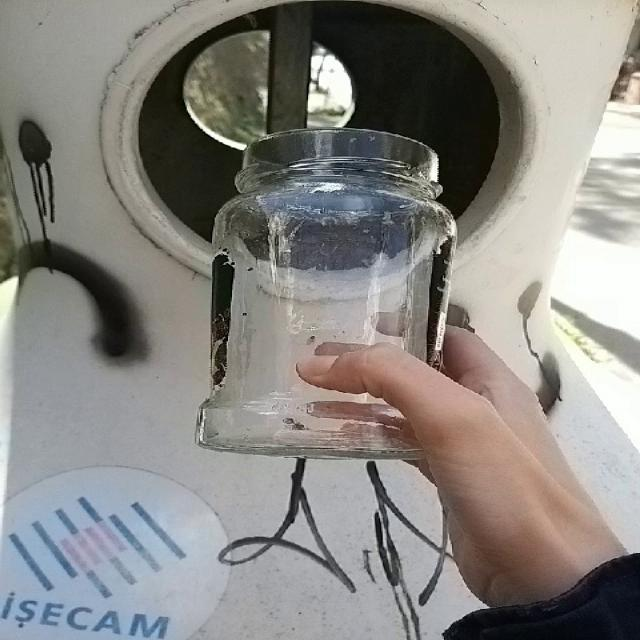glass: (196, 128, 456, 460)
